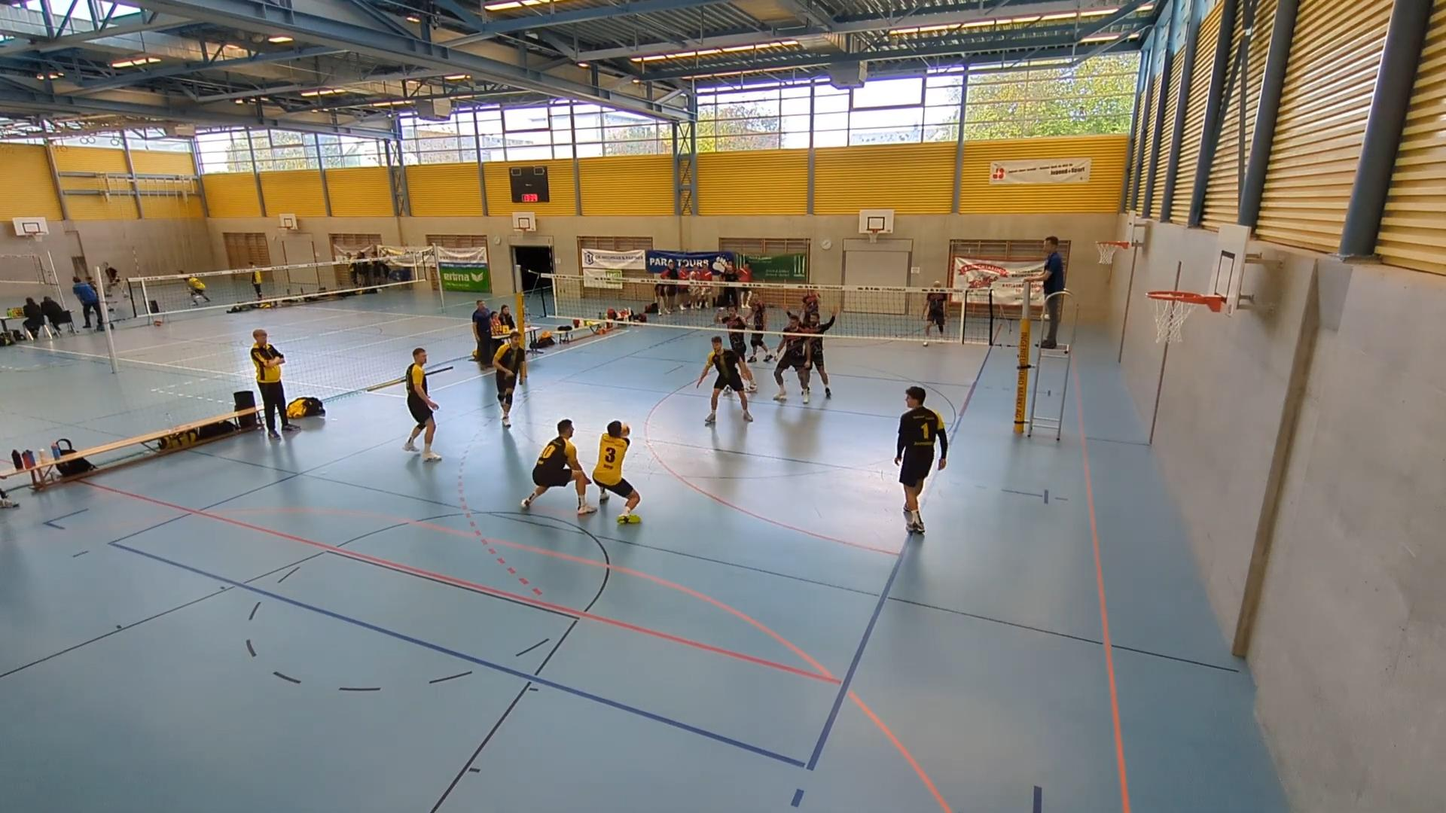ricezione: (592, 420, 647, 529)
